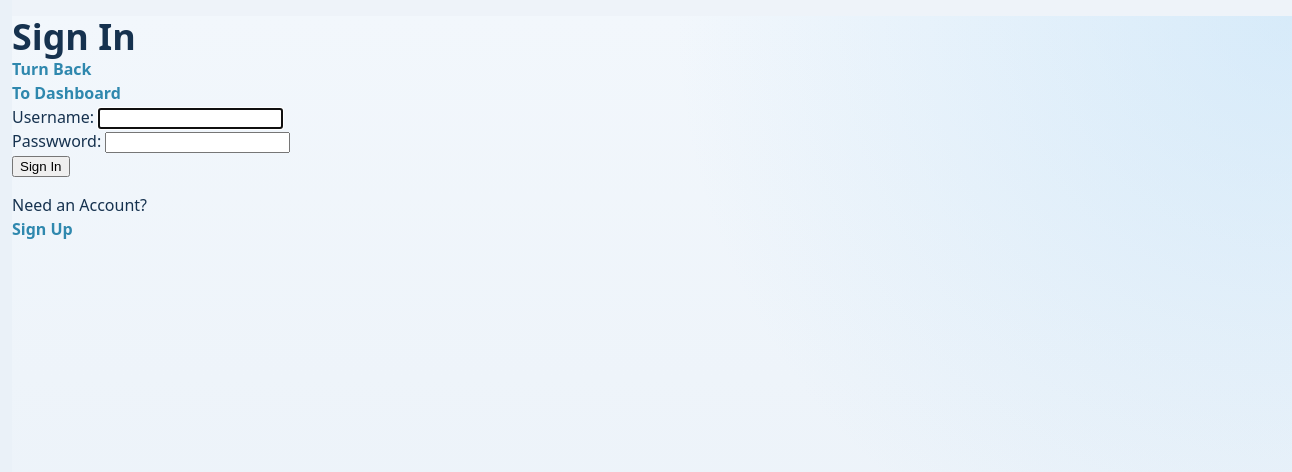
Test case: Login route › navigates back home when Turn Back is clicked
Click the link "Turn Back" at (52, 69), box top-left (12, 58), bottom-right (92, 80)
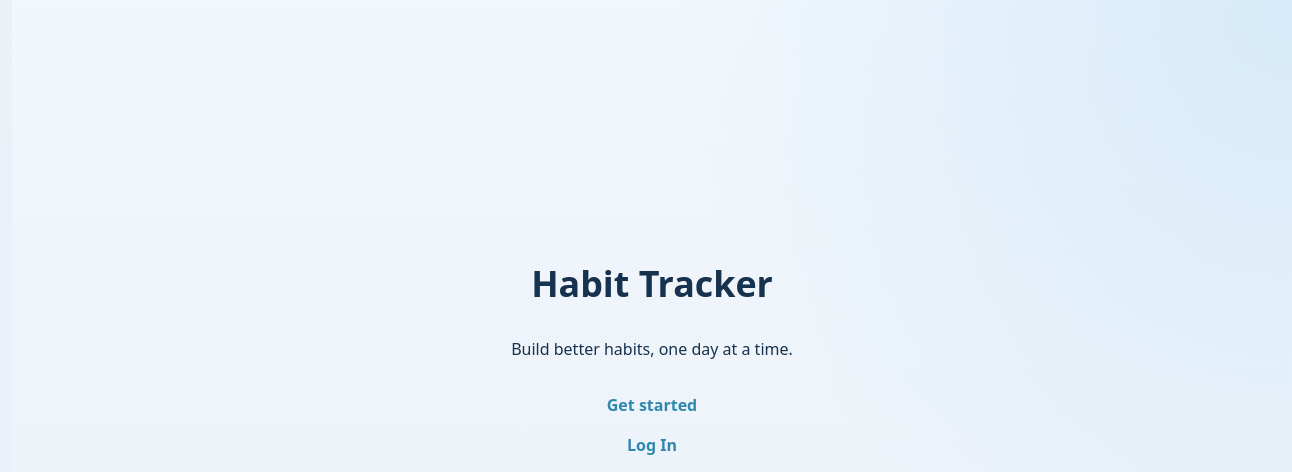
Result: the heading "Habit Tracker" is shown at top-left (531, 263), bottom-right (773, 305)
